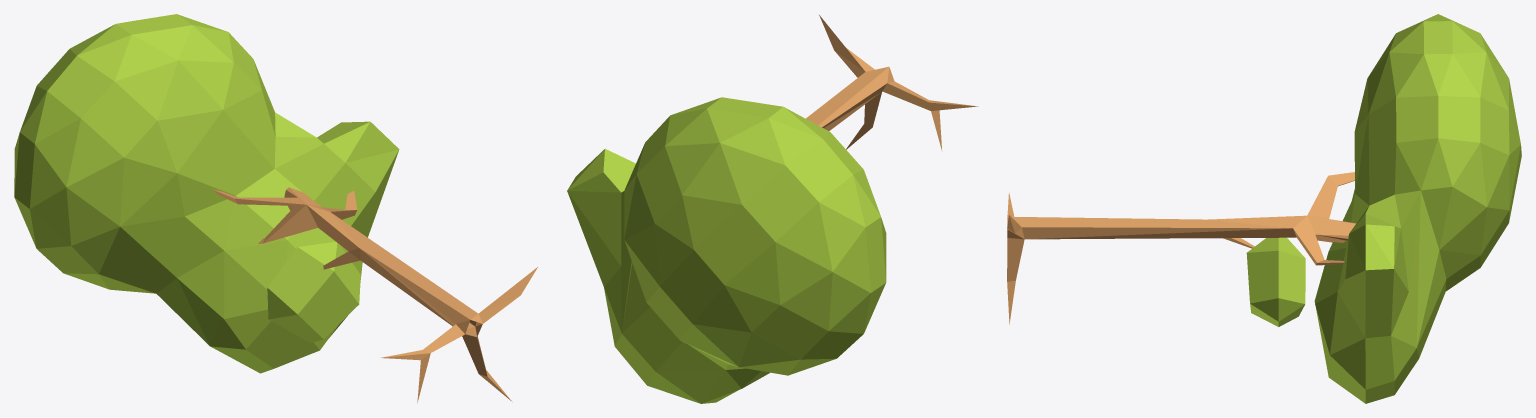
The model's file is Tree4.fbx.
3 renders of one model, left to right at view 1: azimuth 30°, elevation 25°; view 2: azimuth 150°, elevation 25°; view 3: azimuth 270°, elevation 25°, orthographic. The views are drawn at different scales.
Visible parts, largest first — view 1: generic_tree_4; view 2: generic_tree_4; view 3: generic_tree_4.
Boxes of the visible parts, x1=… form: generic_tree_4: x1=14, y1=14, x2=537, y2=402; generic_tree_4: x1=567, y1=15, x2=978, y2=403; generic_tree_4: x1=1007, y1=14, x2=1521, y2=403.
Size of the model in its own units: 482 by 462 by 675.
